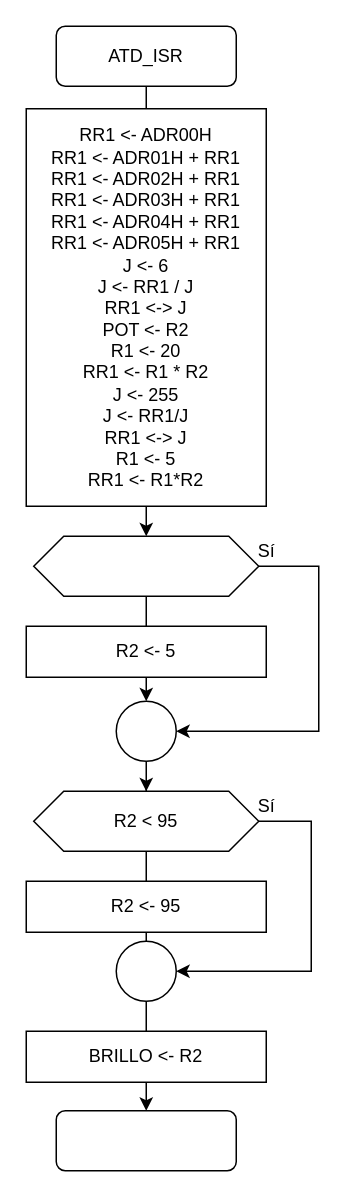
Some shapes in this 357 by 1197 pixel diagram are drawn without their labels. The shapes that lost their labels are listed below. From the top down, each one's box as (x1, y1, x2, y2) in pixels, then its label:
(32, 535, 259, 596): R2 > 5
(55, 1109, 236, 1171): Retorno
